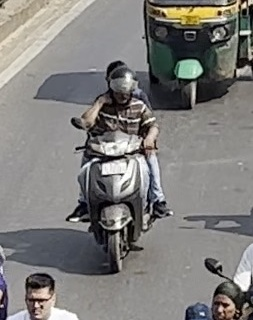BikeWithRider: (68, 61, 174, 275)
Helmet: (104, 67, 138, 107)
